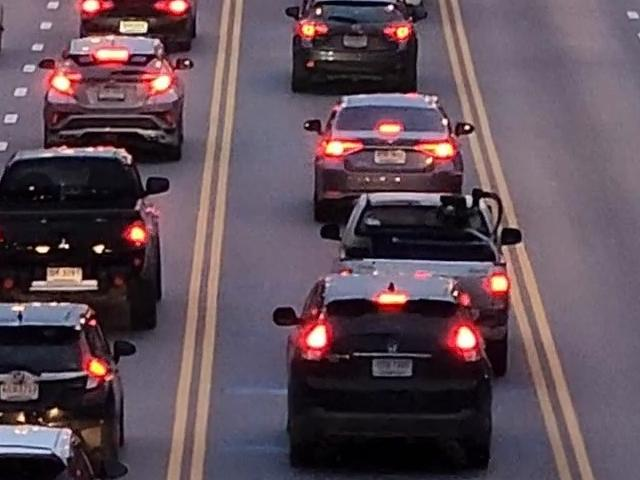car: (270, 262, 507, 475), (0, 148, 176, 335), (300, 88, 487, 218), (0, 308, 140, 471), (37, 35, 193, 145), (286, 0, 443, 101), (81, 0, 217, 56)
